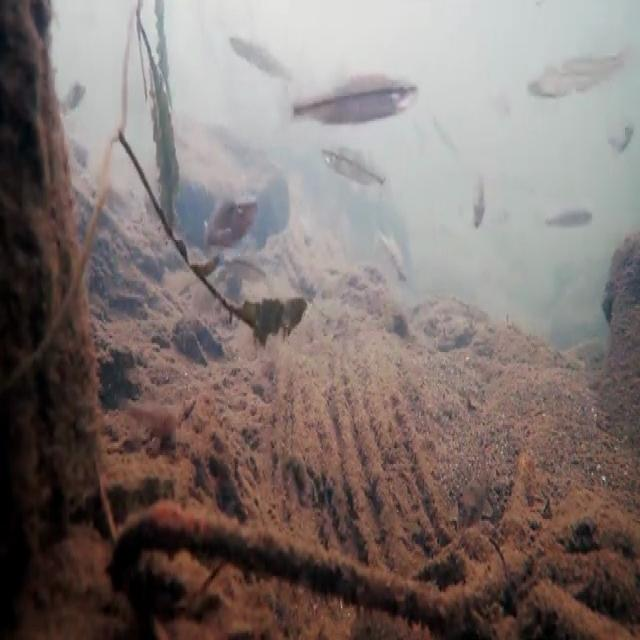Cakil Baligi: (283, 68, 424, 126)
